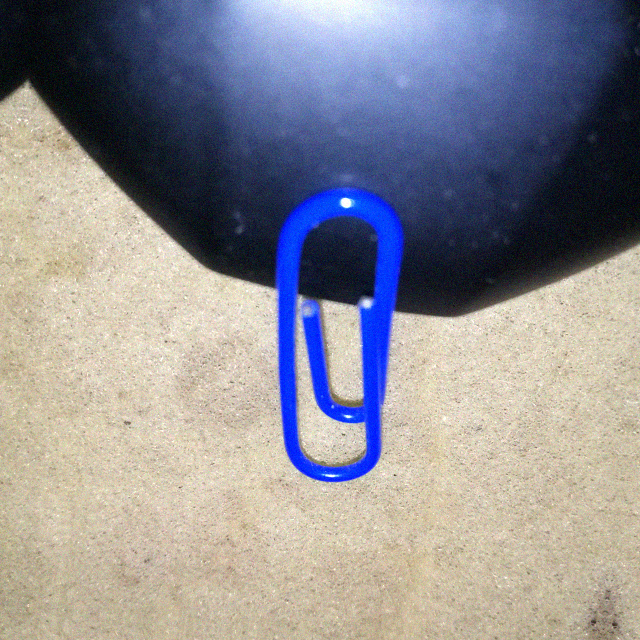pin: (253, 187, 412, 495)
